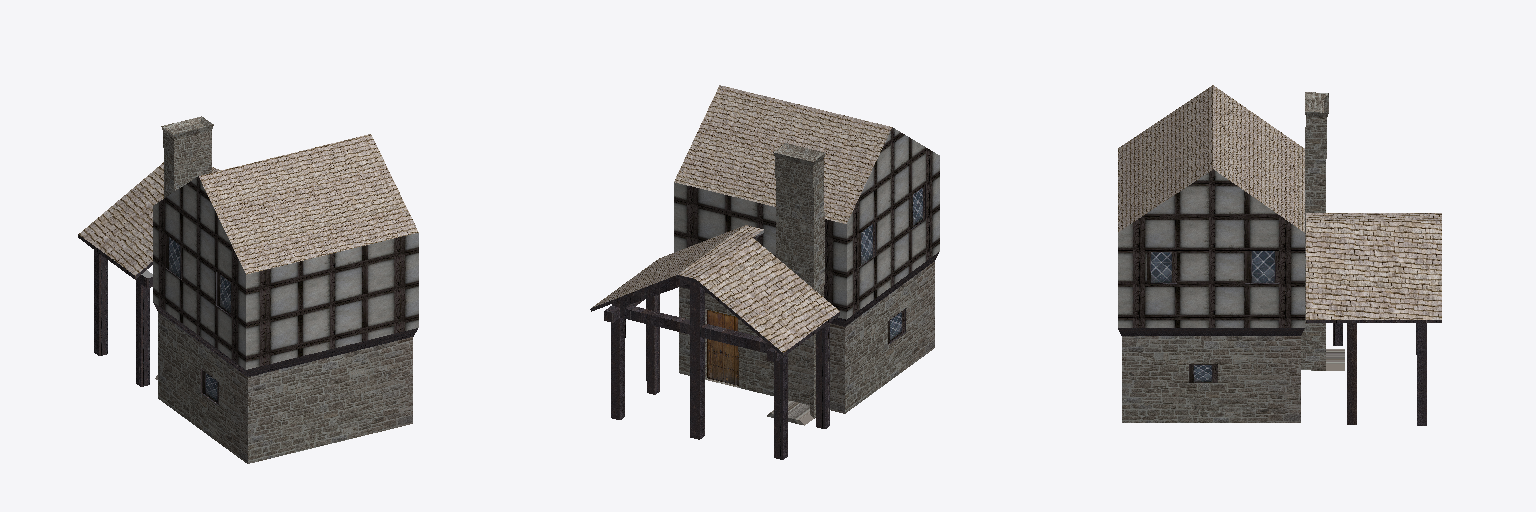
3 views of the same model, side by side, from view 1: azimuth 30°, elevation 25°; view 2: azimuth 150°, elevation 25°; view 3: azimuth 270°, elevation 25° (orthographic).
Visible parts, largest first — view 1: Main_House; view 2: Main_House; view 3: Main_House.
Boxes of the visible parts, x1=… form: Main_House: x1=78, y1=116, x2=418, y2=463; Main_House: x1=590, y1=85, x2=939, y2=459; Main_House: x1=1118, y1=85, x2=1441, y2=425.
Bounding box in the file's own units: 105 × 134 × 152.
11 materials, 6 textured.